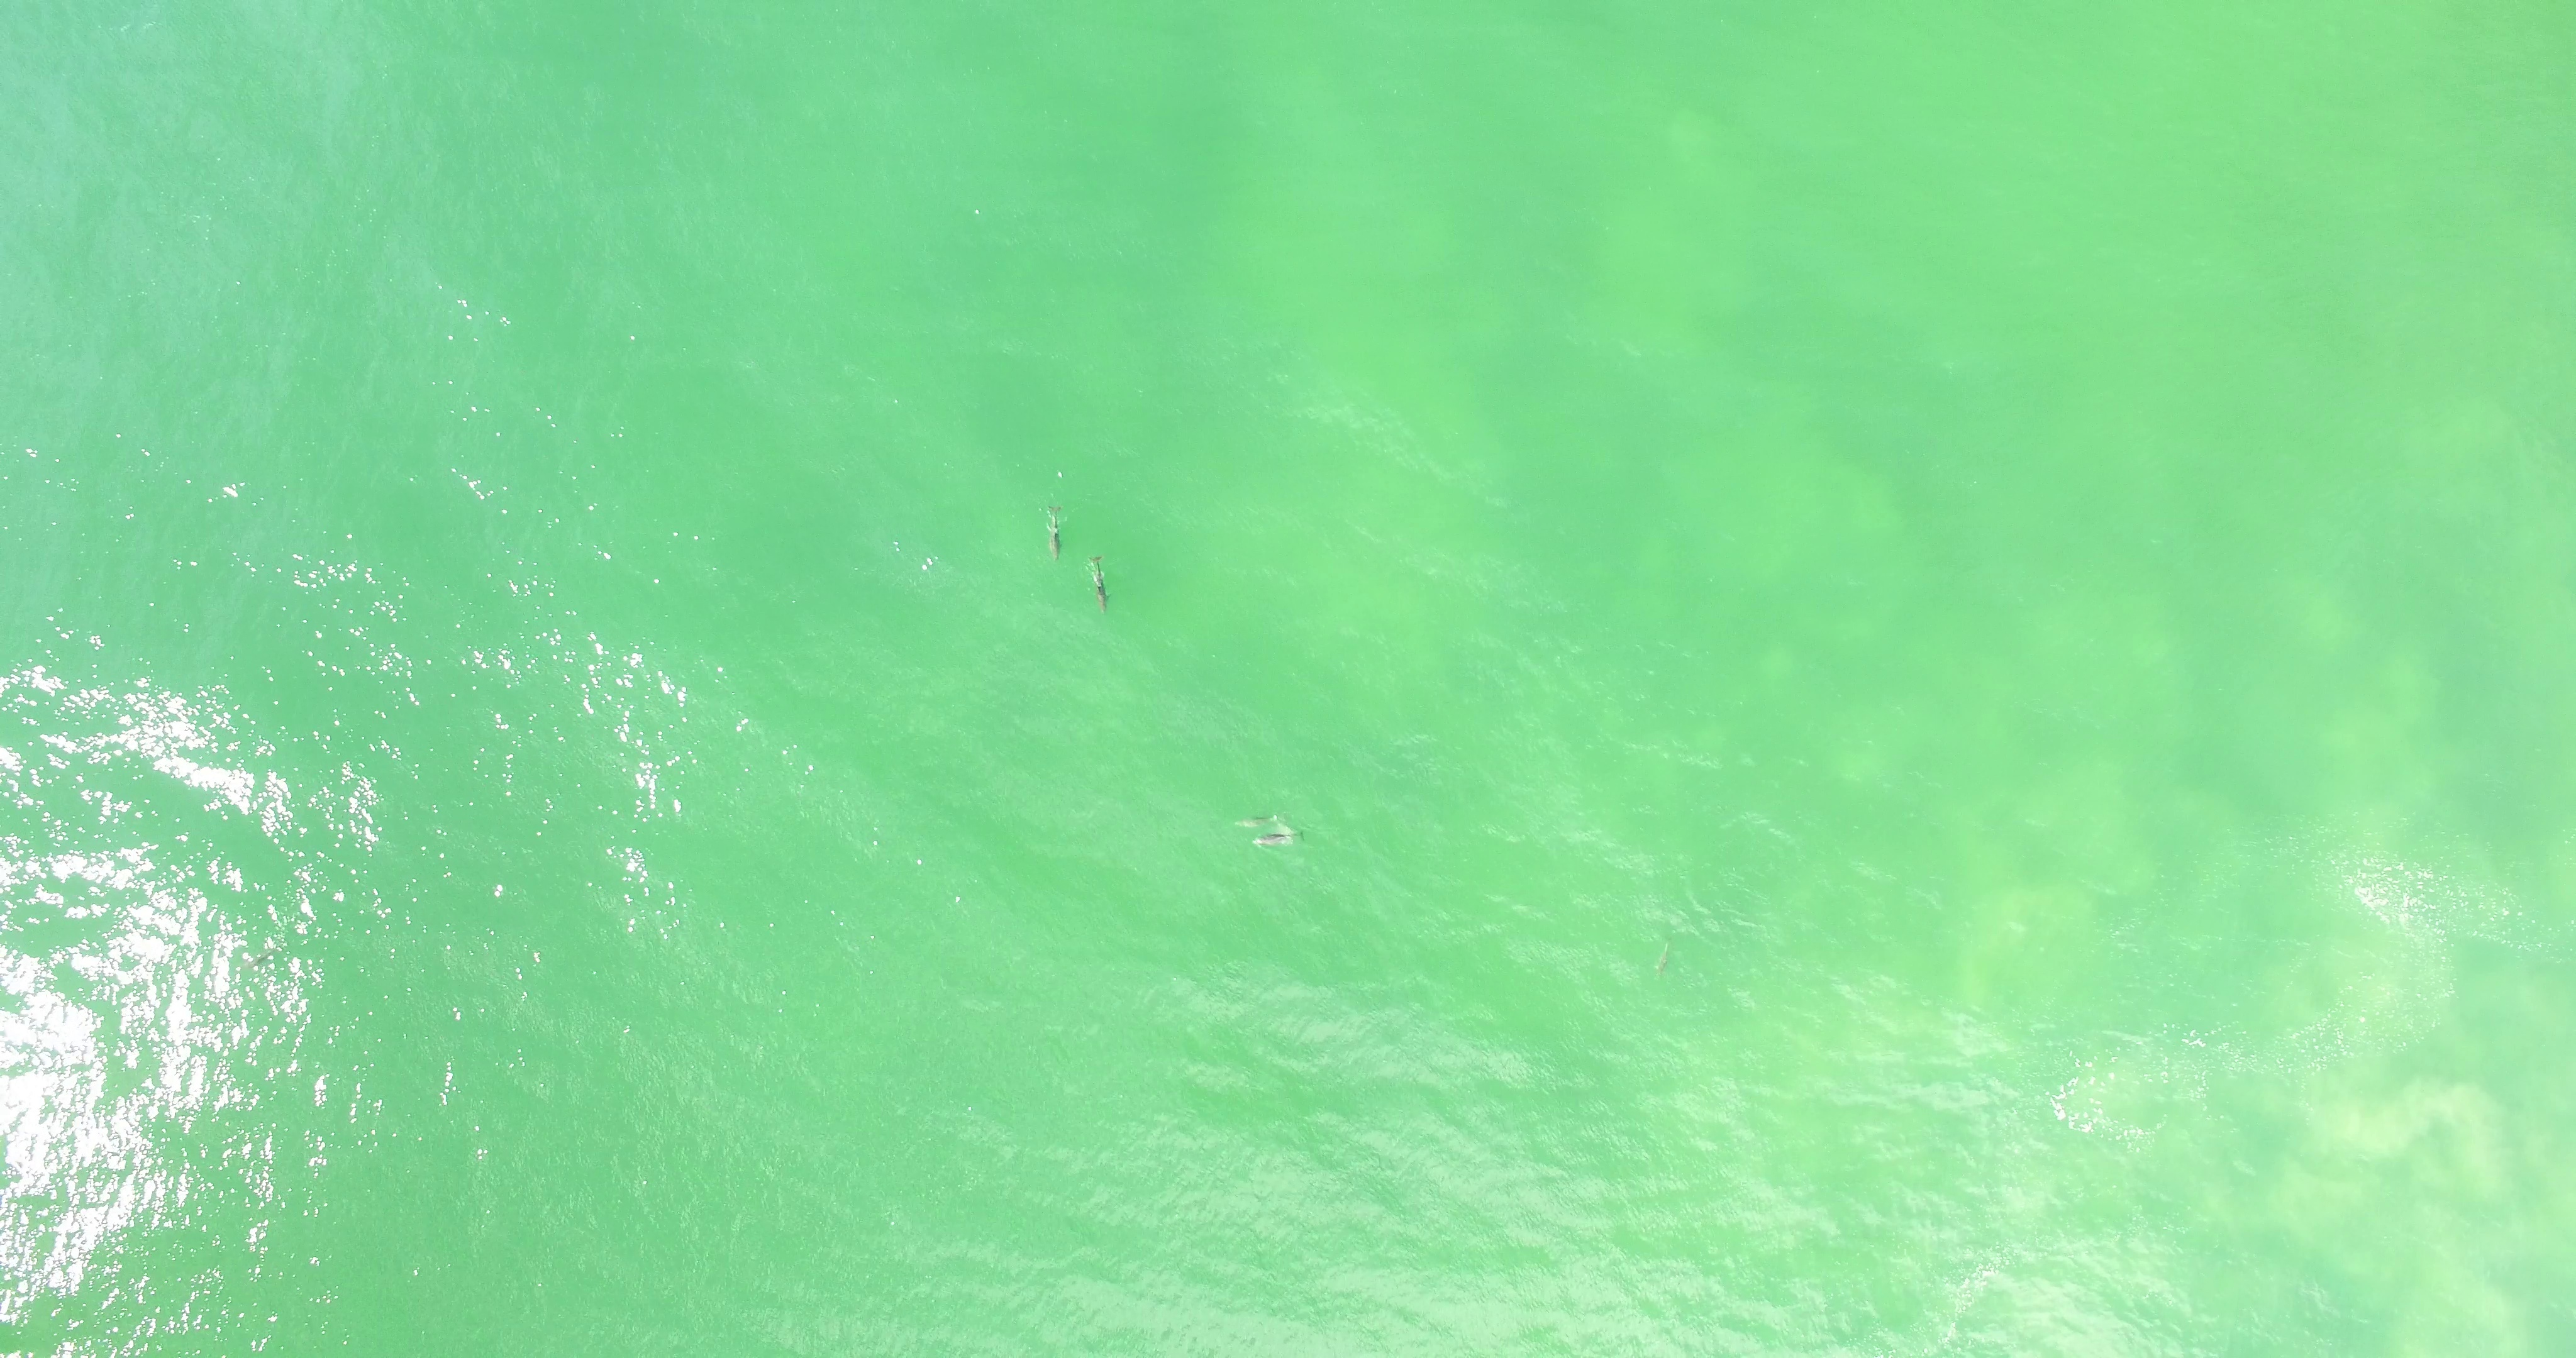dolphin: (1087, 554, 1114, 615), (1044, 499, 1067, 564), (1251, 825, 1305, 850), (1230, 809, 1286, 831), (242, 939, 281, 966)
